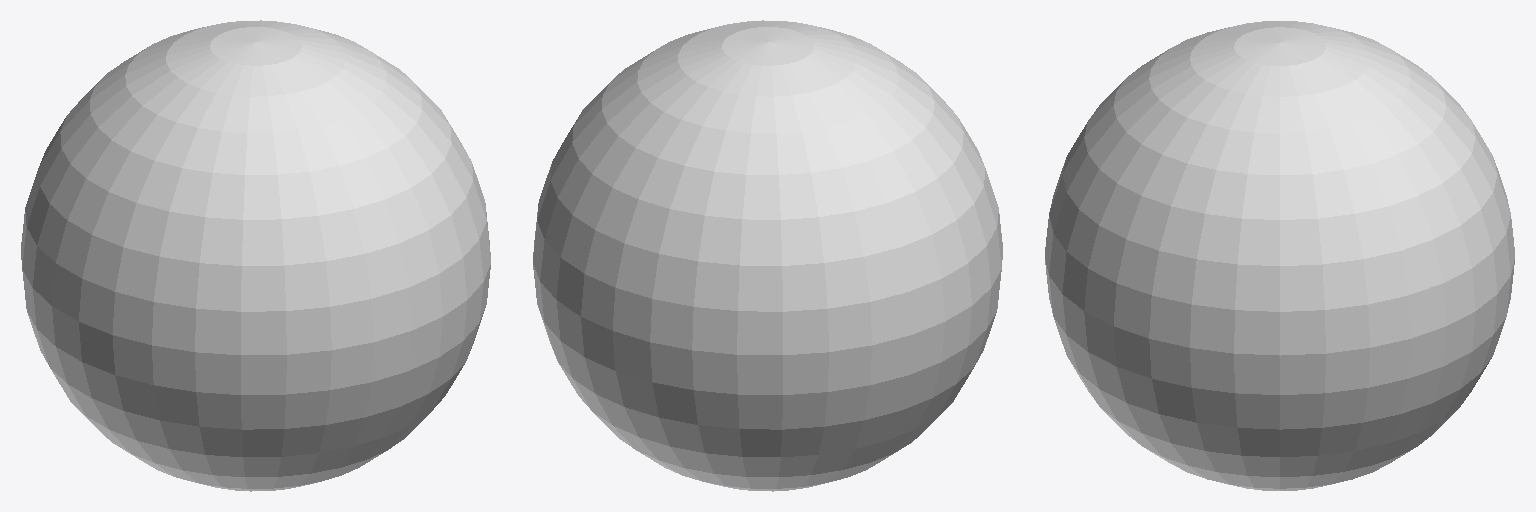
robot.urdf — drone:
<?xml version="1.0" ?>

<robot name="drone">

  <material name="clear_white">
    <color rgba="0.9 0.9 0.9 0.2"/>
  </material>
  <material name="white">
    <color rgba="0.9 0.9 0.9 1.0"/>
  </material>
  <material name="green">
    <color rgba="0.0 0.8 0.0 1.0"/>
  </material>


  <link name="base_link">
    <visual>
      <origin rpy="0 0 0" xyz="0 0 0"/>
      <geometry>
        <box size="0.2 0.1 0.05"/>
      </geometry>
      <material name="white"/>
    </visual>
    <collision>
      <origin rpy="0 0 0" xyz="0 0 0"/>
      <geometry>
        <box size="0.2 0.1 0.05"/>
      </geometry>
    </collision>
    <inertial>
      <mass value="1.0"/>
      <inertia ixx="0.01" ixy="0" ixz="0" iyy="0.01" iyz="0" izz="0.016"/>
    </inertial>
  </link>


  <link name="front_right_prop">
    <visual>
      <origin rpy="0 0 0" xyz="0 0 0"/>
      <geometry>
        <cylinder length="0.01" radius="0.12"/>
      </geometry>
      <material name="green"/>
    </visual>
    <collision>
      <origin rpy="0 0 0" xyz="0 0 0"/>
      <geometry>
        <cylinder length="0.01" radius="0.12"/>
      </geometry>
    </collision>
    <inertial>
      <mass value="0"/>
      <inertia ixx="0" ixy="0" ixz="0" iyy="0" iyz="0" izz="0"/>
    </inertial>
  </link>
  <joint name="base_to_front_right_prop" type="fixed">
    <parent link="base_link"/>
    <child link="front_right_prop"/>
    <origin xyz="0.16 -0.16 0"/>
    <axis xyz="1 0 0"/>
  </joint>


  <link name="back_left_prop">
    <visual>
      <origin rpy="0 0 0" xyz="0 0 0"/>
      <geometry>
        <cylinder length="0.01" radius="0.12"/>
      </geometry>
      <material name="green"/>
    </visual>
    <collision>
      <origin rpy="0 0 0" xyz="0 0 0"/>
      <geometry>
        <cylinder length="0.01" radius="0.12"/>
      </geometry>
    </collision>
    <inertial>
      <mass value="0"/>
      <inertia ixx="0" ixy="0" ixz="0" iyy="0" iyz="0" izz="0"/>
    </inertial>
  </link>
  <joint name="base_to_back_left_prop" type="fixed">
    <parent link="base_link"/>
    <child link="back_left_prop"/>
    <origin xyz="-0.16 0.16 0"/>
    <axis xyz="1 0 0"/>
  </joint>


  <link name="front_left_prop">
    <visual>
      <origin rpy="0 0 0" xyz="0 0 0"/>
      <geometry>
        <cylinder length="0.01" radius="0.12"/>
      </geometry>
      <material name="green"/>
    </visual>
    <collision>
      <origin rpy="0 0 0" xyz="0 0 0"/>
      <geometry>
        <cylinder length="0.01" radius="0.12"/>
      </geometry>
    </collision>
    <inertial>
      <mass value="0"/>
      <inertia ixx="0" ixy="0" ixz="0" iyy="0" iyz="0" izz="0"/>
    </inertial>
  </link>
  <joint name="base_to_front_left_prop" type="fixed">
    <parent link="base_link"/>
    <child link="front_left_prop"/>
    <origin xyz="0.16 0.16 0"/>
    <axis xyz="1 0 0"/>
  </joint>


  <link name="back_right_prop">
    <visual>
      <origin rpy="0 0 0" xyz="0 0 0"/>
      <geometry>
        <cylinder length="0.01" radius="0.12"/>
      </geometry>
      <material name="green"/>
    </visual>
    <collision>
      <origin rpy="0 0 0" xyz="0 0 0"/>
      <geometry>
        <cylinder length="0.01" radius="0.12"/>
      </geometry>
    </collision>
    <inertial>
      <mass value="0"/>
      <inertia ixx="0" ixy="0" ixz="0" iyy="0" iyz="0" izz="0"/>
    </inertial>
  </link>
  <joint name="base_to_back_right_prop" type="fixed">
    <parent link="base_link"/>
    <child link="back_right_prop"/>
    <!-- joint of child is xyz away from parent -->
    <origin xyz="-0.16 -0.16 0"/>
    <axis xyz="1 0 0"/>
  </joint>

  <link name="body">
    <visual>
      <origin rpy="0 0 0" xyz="0 0 0"/>
      <geometry>
        <sphere radius="0.5"/>
      </geometry>
      <material name="clear_white"/>
    </visual>
    <collision>
      <origin rpy="0 0 0" xyz="0 0 0"/>
      <geometry>
        <sphere radius="0.75"/>
      </geometry>
    </collision>
    <inertial>
      <origin rpy="0 0 0" xyz="0 0 0"/>
      <mass value="0"/>
      <inertia ixx="0" ixy="0" ixz="0" iyy="0" iyz="0" izz="0"/>
    </inertial>
  </link>
  <joint name="body_link" type="fixed">
    <parent link="base_link"/>
    <child link="body"/>
    <origin xyz="0 0 0"/>
    <axis xyz="0 0 0"/>
  </joint>

</robot>

--- What the picture shows (computed from the rendered views, not written in the file) ---
3 views of the same robot in one strip: view 1: azimuth 30°, elevation 25°; view 2: azimuth 150°, elevation 25°; view 3: azimuth 270°, elevation 25° (orthographic).
Robot: drone — 6 links, 5 joints (5 fixed); root link base_link; default pose: every joint at zero.
Links seen in each view (by area): view 1: body; view 2: body; view 3: body.
Boxes of the visible links, box(x1,y1,x2,y2) form: body: box(21, 20, 490, 491); body: box(533, 20, 1002, 491); body: box(1045, 21, 1514, 490).
Bounding box of the posed robot: 1 × 1 × 1 m (x, y, z).
Geometry: primitives only (box / cylinder / sphere), no mesh files.